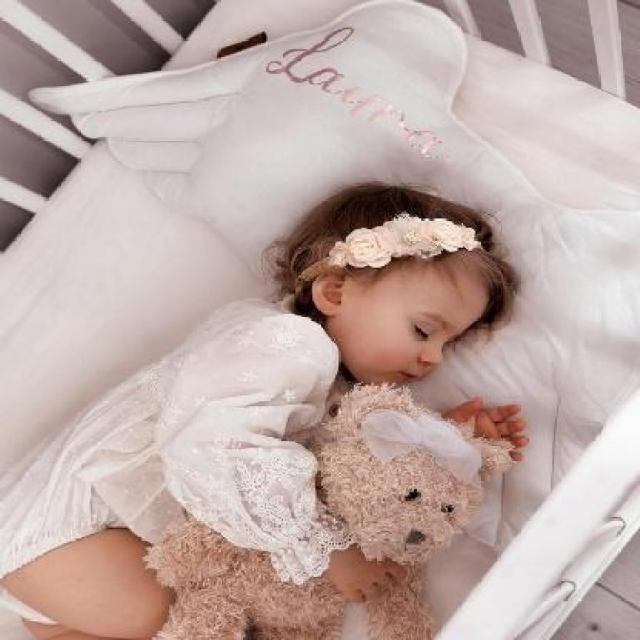child: (5, 183, 524, 639)
